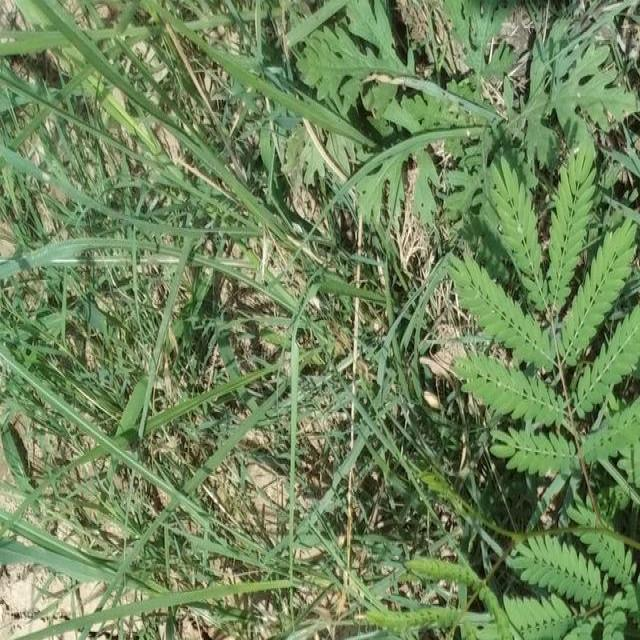weed: (21, 393, 297, 640), (300, 6, 638, 196), (21, 30, 260, 276)
